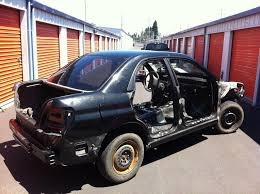Broken-glass: (43, 106, 76, 136)
Smashed: (130, 56, 212, 141), (14, 82, 54, 122)
